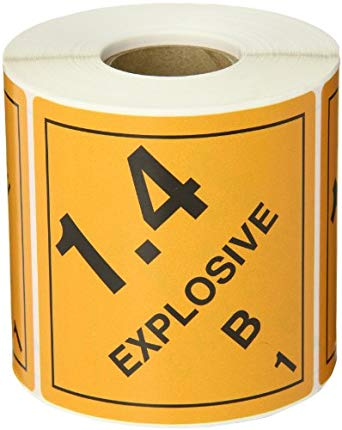Explosive: (36, 109, 308, 390)
